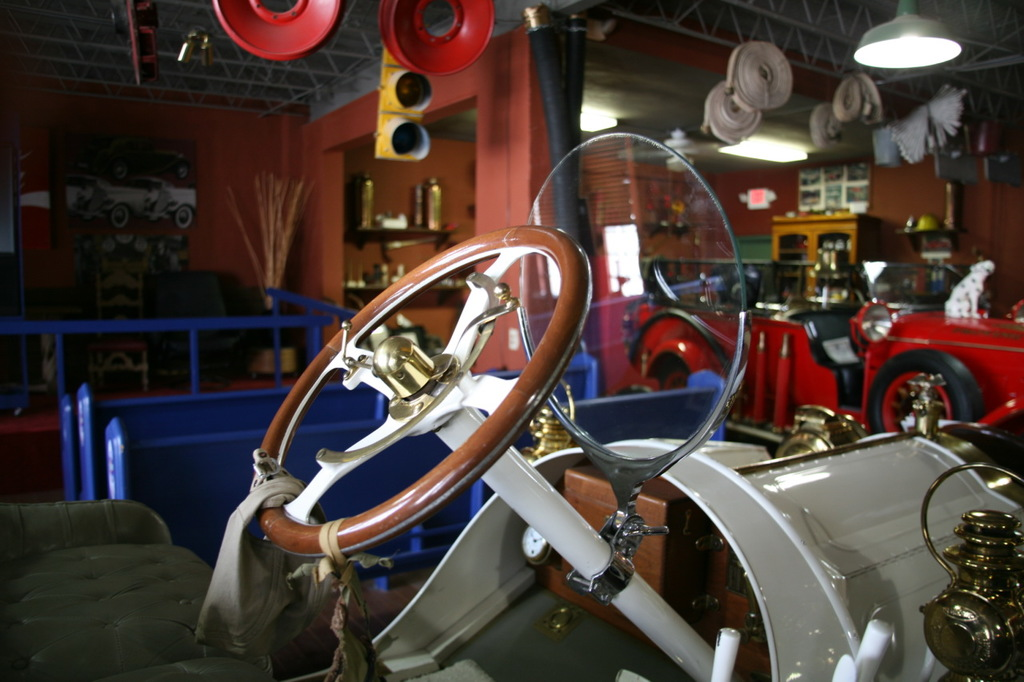Car: (0, 212, 1023, 681), (623, 258, 1023, 453)
